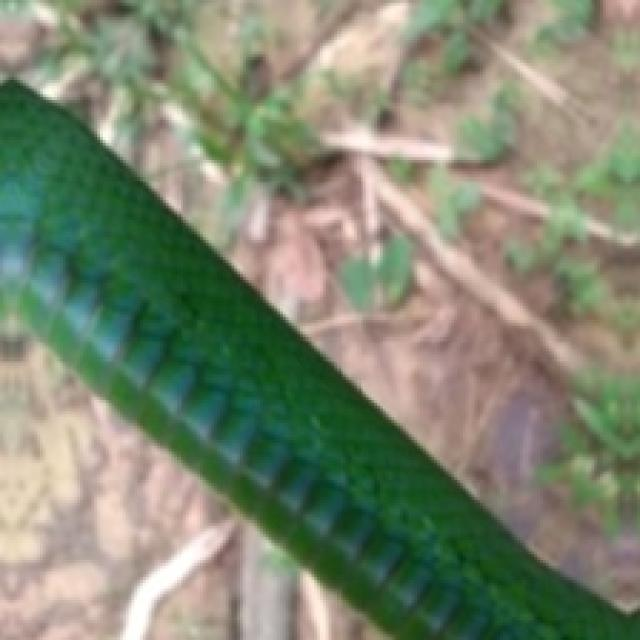red-tailed green ratsnake: (0, 83, 637, 637)
